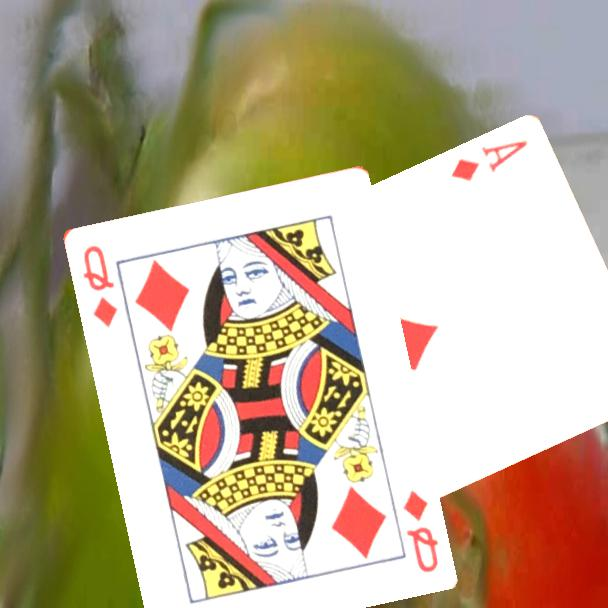d01: (447, 137, 531, 185)
d12: (398, 486, 441, 575), (79, 241, 120, 330)
